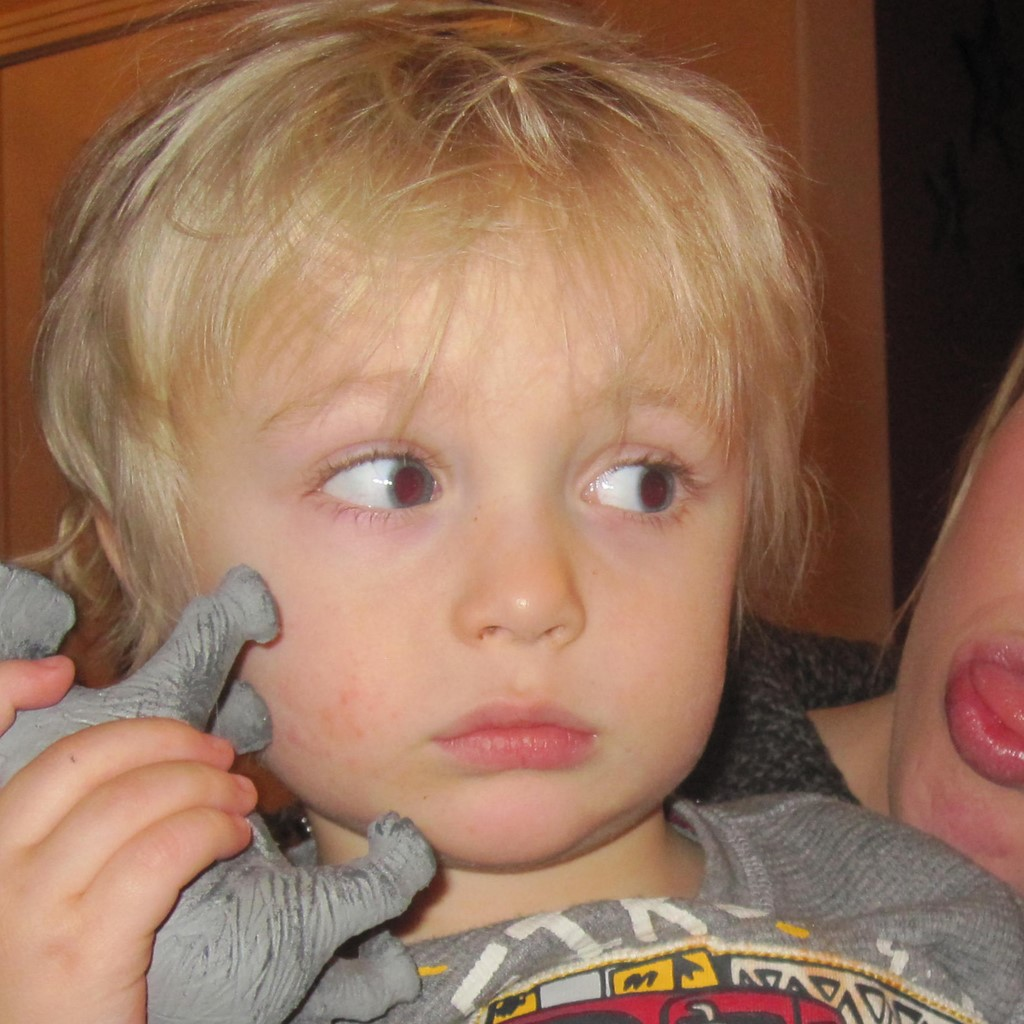sin_mascara: (99, 64, 752, 859)
